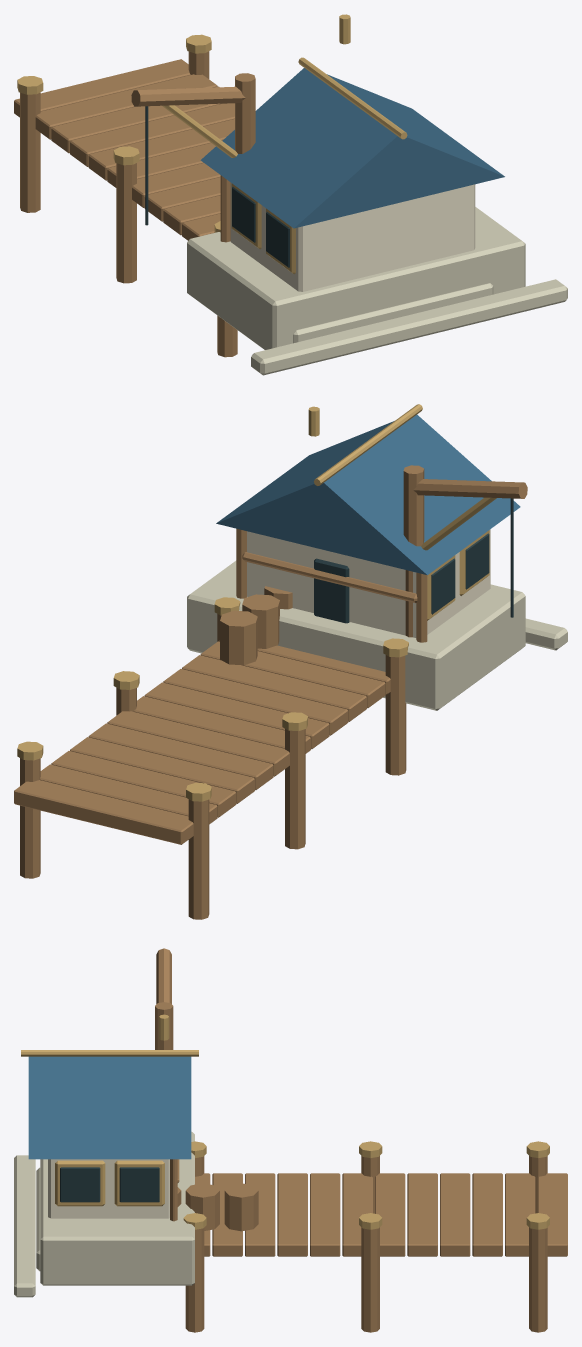
The model's file is level_08.glb.
3 views of the same model, one above another, from view 1: azimuth 30°, elevation 25°; view 2: azimuth 150°, elevation 25°; view 3: azimuth 270°, elevation 25° (orthographic). The views are drawn at different scales.
Visible parts, largest first — view 1: fishing_wharf — level 08; view 2: fishing_wharf — level 08; view 3: fishing_wharf — level 08.
Part boxes in pixels (left/top/right/bottom): fishing_wharf — level 08: left=14, top=14, right=567, bottom=375; fishing_wharf — level 08: left=14, top=404, right=567, bottom=919; fishing_wharf — level 08: left=14, top=948, right=567, bottom=1332.
Bounding box in the file's own units: 4.53 × 4.03 × 7.16.
